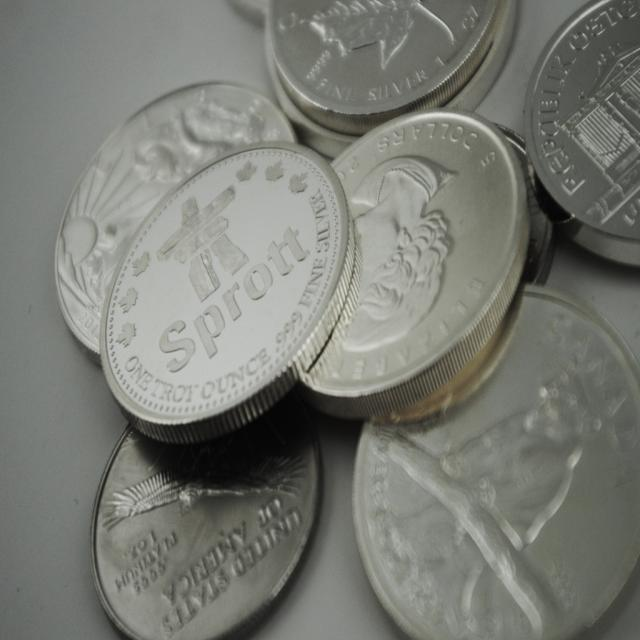Coin: (50, 0, 640, 639)
